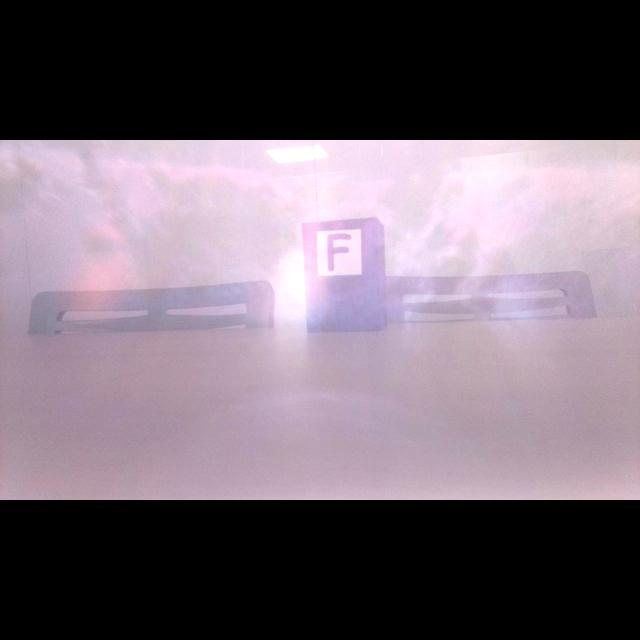F: (327, 234, 351, 272)
